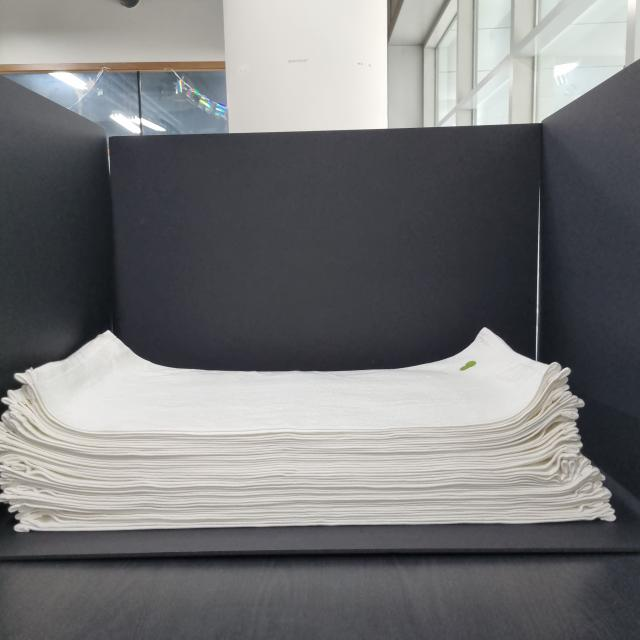not_50count_towel: (0, 302, 638, 542)
